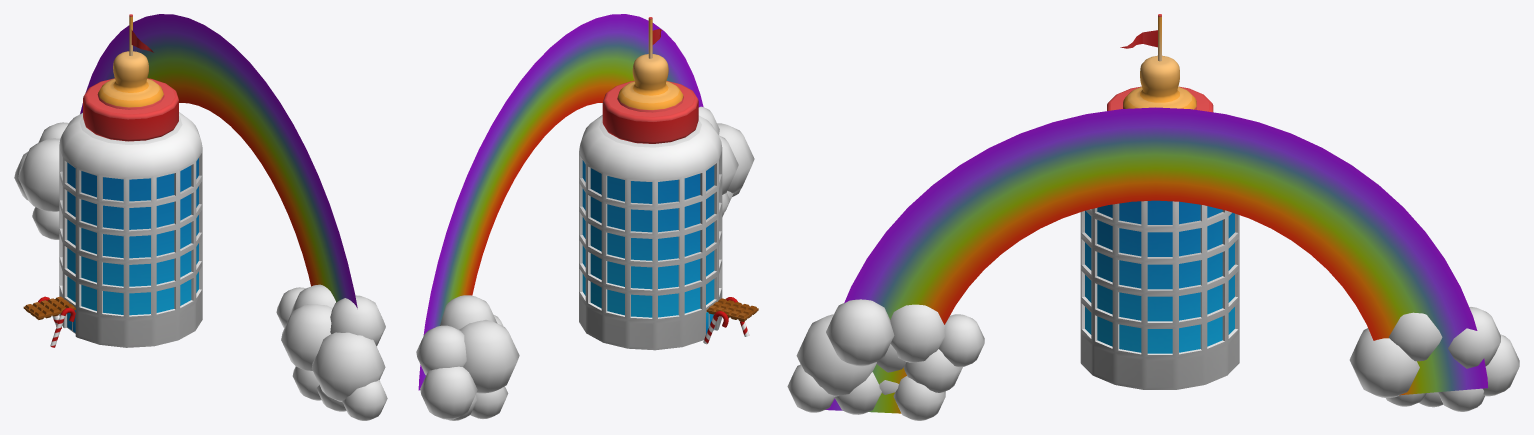
The model's file is baby_boss_sirket_binasi5.fbx.
3 renders of one model, left to right at view 1: azimuth 30°, elevation 25°; view 2: azimuth 150°, elevation 25°; view 3: azimuth 270°, elevation 25°, orthographic. The views are drawn at different scales.
Parts seen in each view (by area): view 1: baby_boss_sirket_binasi, baby_boss_gokkusagi, baby_boss_bulutlar; view 2: baby_boss_sirket_binasi, baby_boss_gokkusagi, baby_boss_bulutlar; view 3: baby_boss_gokkusagi, baby_boss_sirket_binasi, baby_boss_bulutlar.
Part boxes in pixels (bbox=[...]): baby_boss_sirket_binasi: bbox=[23, 14, 202, 347]; baby_boss_gokkusagi: bbox=[80, 14, 357, 308]; baby_boss_bulutlar: bbox=[14, 122, 387, 420]; baby_boss_sirket_binasi: bbox=[579, 17, 758, 350]; baby_boss_gokkusagi: bbox=[418, 14, 703, 390]; baby_boss_bulutlar: bbox=[416, 106, 754, 420]; baby_boss_gokkusagi: bbox=[825, 107, 1488, 413]; baby_boss_sirket_binasi: bbox=[1080, 14, 1239, 389]; baby_boss_bulutlar: bbox=[787, 299, 1519, 420].
Bounding box in the file's own units: 13.92 × 19.61 × 35.74.
